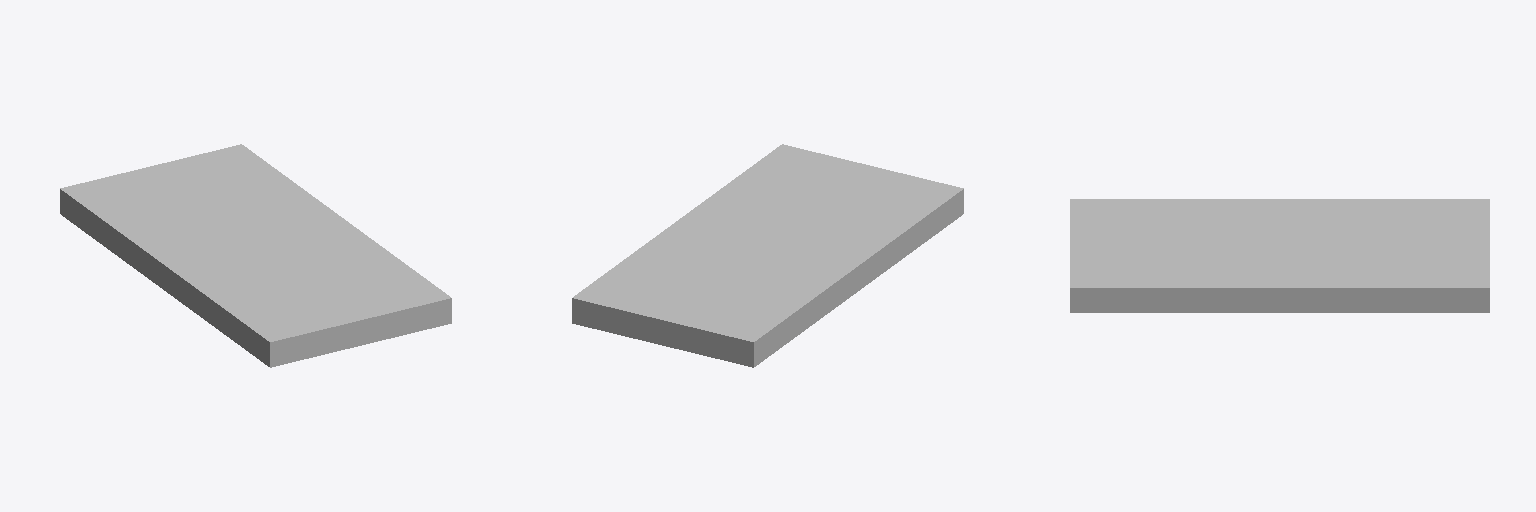
Rendered from platform x2 3.obj.
3 renders of one model, left to right at view 1: azimuth 30°, elevation 25°; view 2: azimuth 150°, elevation 25°; view 3: azimuth 270°, elevation 25°, orthographic.
Visible parts, largest first — view 1: object 1; view 2: object 1; view 3: object 1.
Boxes of the visible parts, x1=… form: object 1: x1=60, y1=144, x2=451, y2=367; object 1: x1=572, y1=144, x2=963, y2=367; object 1: x1=1070, y1=199, x2=1489, y2=312.
Bounding box in the file's own units: 3 × 0.4 × 6.